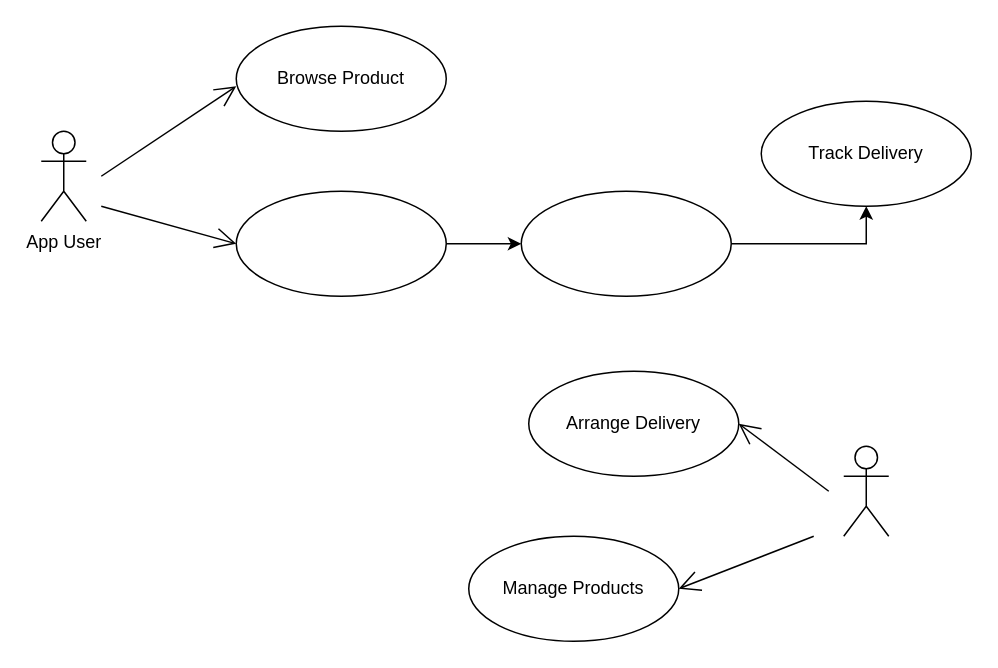
Some shapes in this 998 by 668 pixel diagram are drawn without their labels. The shapes that lost their labels are listed below. From the top down, each one's centre as x and y in pixels, then its label:
(340,243): Add to Cart and Order
(625,243): Payment
(865,490): Administrator
